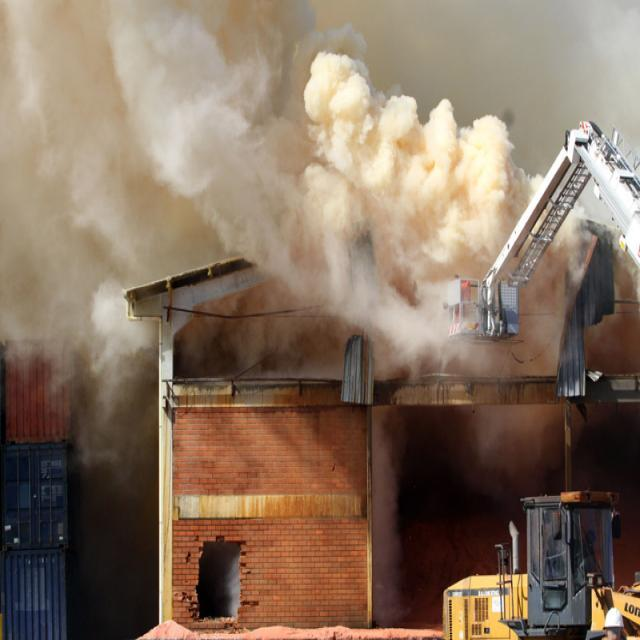Smoke: (3, 0, 332, 273), (335, 51, 510, 274)
